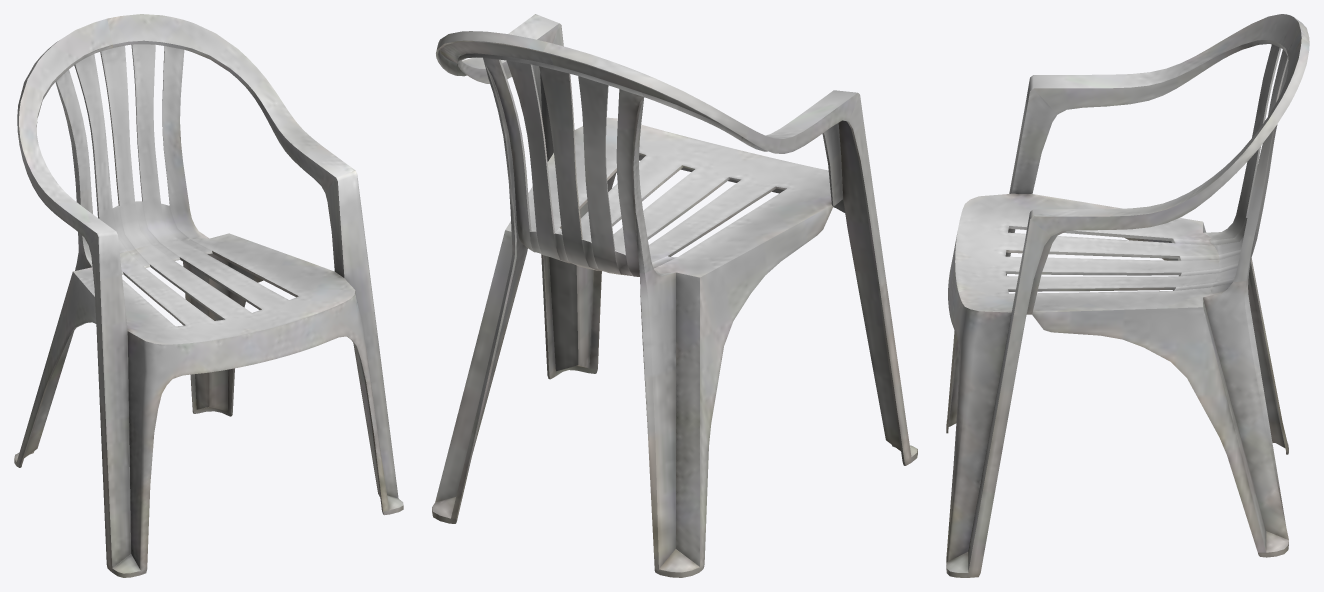
File: chair-monobloc.lite.27c32767.glb
3 renders of one model, left to right at view 1: azimuth 30°, elevation 25°; view 2: azimuth 150°, elevation 25°; view 3: azimuth 270°, elevation 25°, orthographic. The views are drawn at different scales.
Visible parts, largest first — view 1: model; view 2: model; view 3: model.
Boxes of the visible parts, x1,y1,x2,y2 form: model: (14, 14, 403, 577); model: (432, 14, 917, 577); model: (946, 14, 1309, 577).
Size of the model in its own units: 0.6419 by 0.8798 by 0.6276.
1 material, 1 textured.
